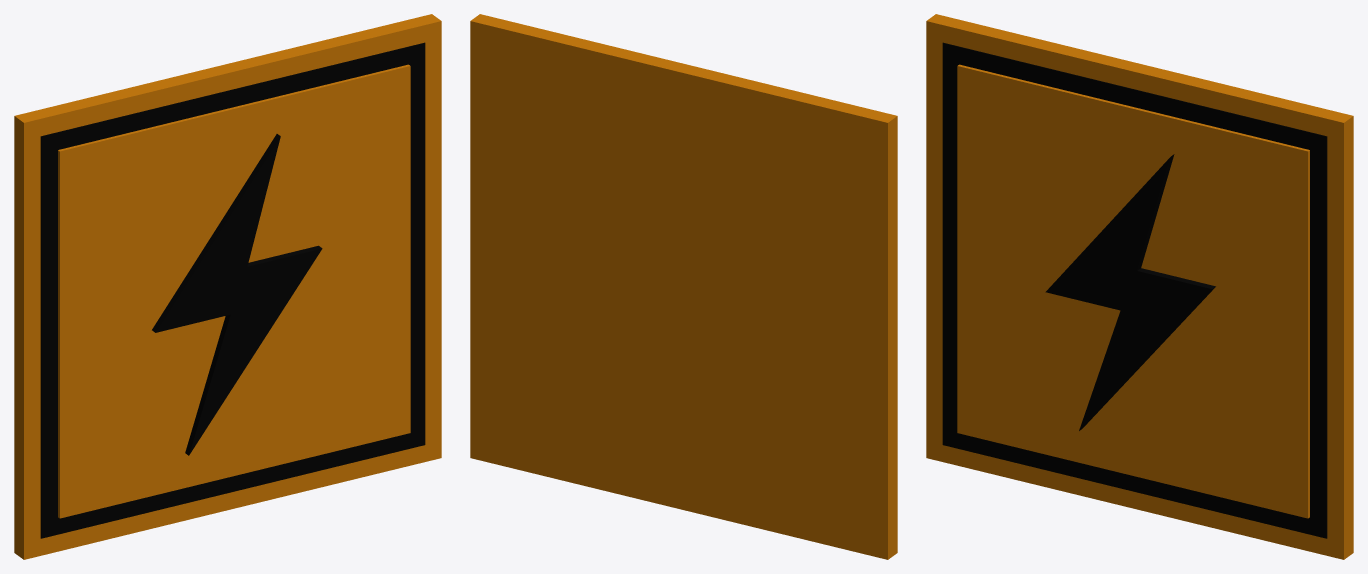
The model's file is SM_Sign_Electric.glb.
3 renders of one model, left to right at view 1: azimuth 30°, elevation 25°; view 2: azimuth 150°, elevation 25°; view 3: azimuth 330°, elevation 25°, orthographic.
Parts seen in each view (by area): view 1: SM_Sign_Electric; view 2: SM_Sign_Electric; view 3: SM_Sign_Electric.
Part boxes in pixels (x1=…): SM_Sign_Electric: x1=14, y1=14, x2=441, y2=559; SM_Sign_Electric: x1=470, y1=14, x2=897, y2=559; SM_Sign_Electric: x1=926, y1=14, x2=1353, y2=559.
Size of the model in its own units: 0.5 by 0.5 by 0.033.
